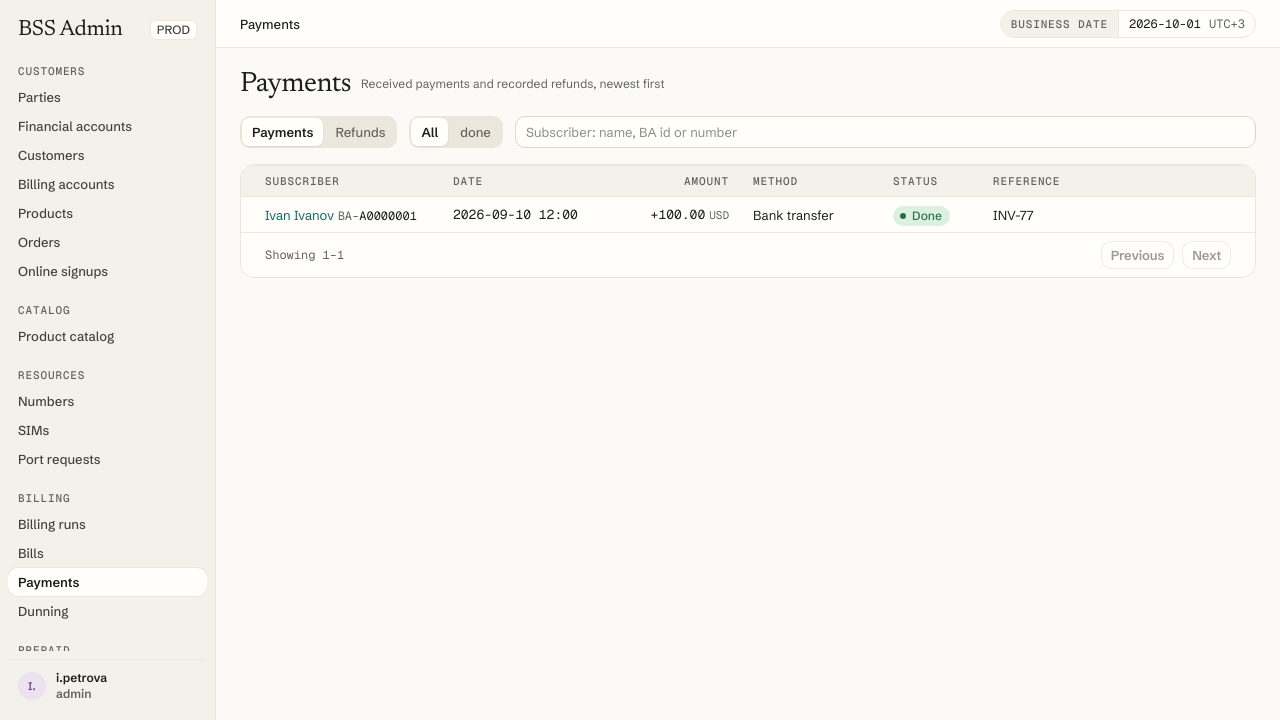
payments screen › closes a payment without a write
The image size is (1280, 720).
Click the text "INV-77" at point(1013, 214), box [993,206,1034,222]
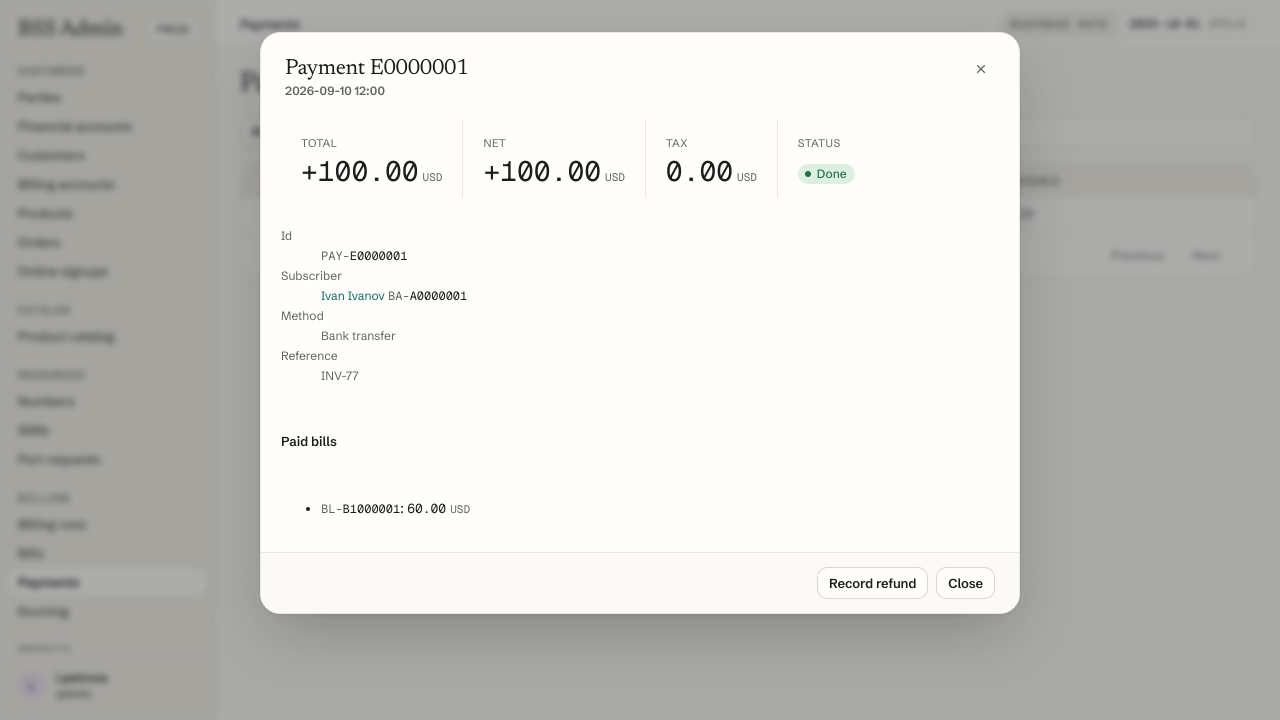
Expected: the text "B1000001" is shown, [343,501,400,517]
Press Escape
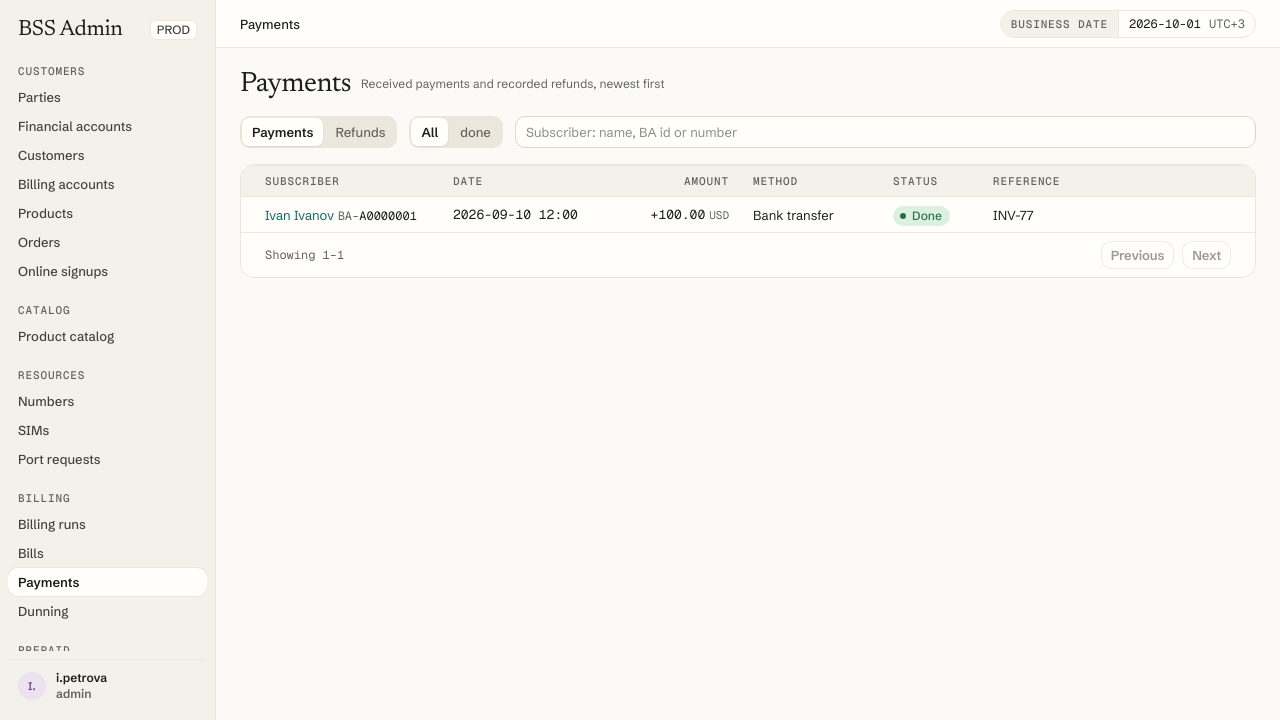
Expected: the dialog is gone
